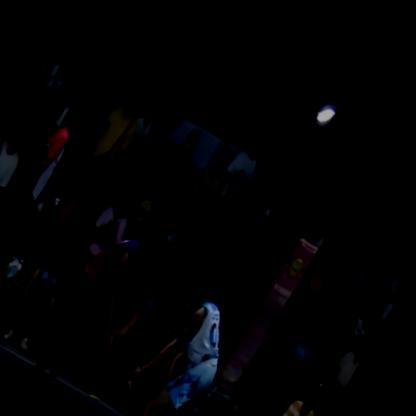basketball: (79, 310, 134, 380)
